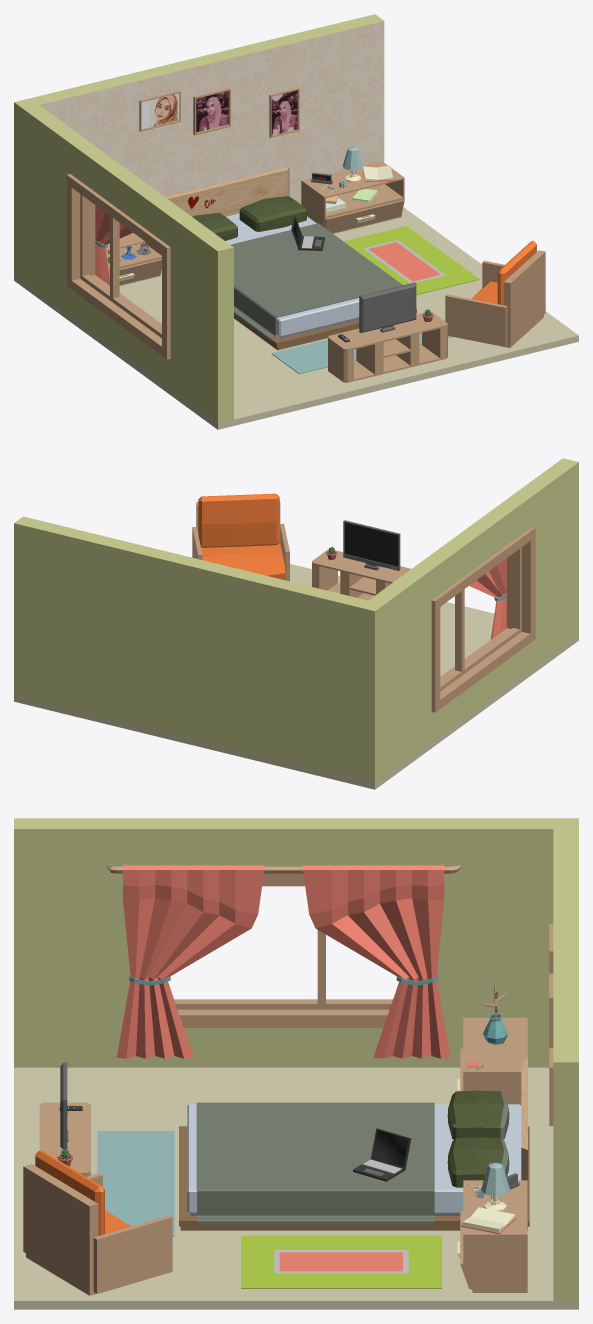
The model's file is low_poly_bedroom.glb.
3 renders of one model, top to bottom at view 1: azimuth 30°, elevation 25°; view 2: azimuth 150°, elevation 25°; view 3: azimuth 270°, elevation 25°, orthographic. The views are drawn at different scales.
Parts seen in each view (by area): view 1: Object_2; view 2: Object_2; view 3: Object_2, Object_3.
Boxes of the visible parts, x1=… form: Object_2: x1=14, y1=14, x2=578, y2=429; Object_2: x1=14, y1=458, x2=578, y2=789; Object_2: x1=14, y1=818, x2=578, y2=1309; Object_3: x1=372, y1=1130, x2=477, y2=1189.
Size of the model in its own units: 4.47 by 2.09 by 4.33.
6 materials, 6 textured.
